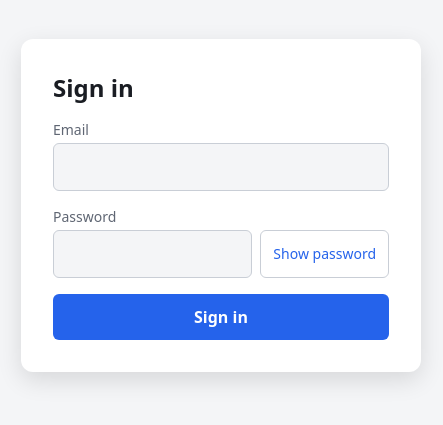
LoginPage › shows_inline_errors_and_sends_no_request_when_invalid
Type "nope" into the field labelled "Email" at [221, 166], box 53,142 -> 389,190
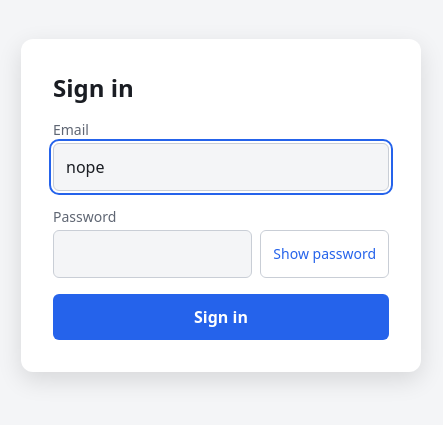
Type "short" into the password field labelled "Password" at [153, 254], box 53,230 -> 252,278
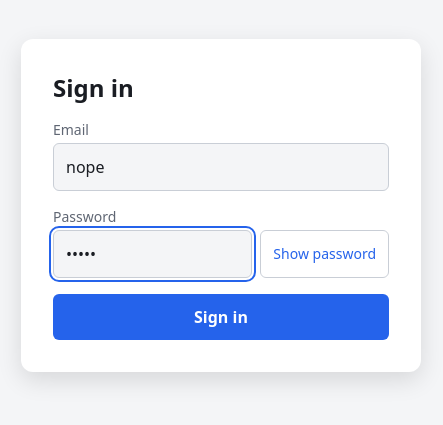
Click the button "Sign in" at [221, 316], box 53,294 -> 389,340
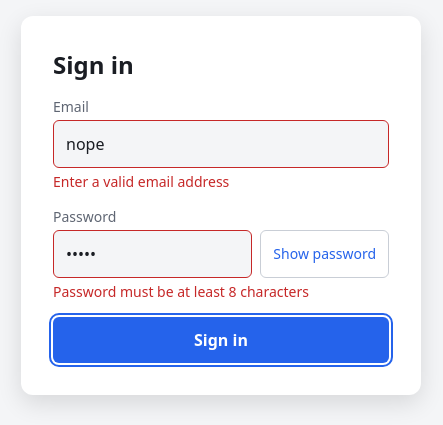
Result: the text "Enter a valid email address" is shown at 53,172 -> 229,190
Result: the text "Password must be at least 8 characters" is shown at 53,282 -> 309,300
